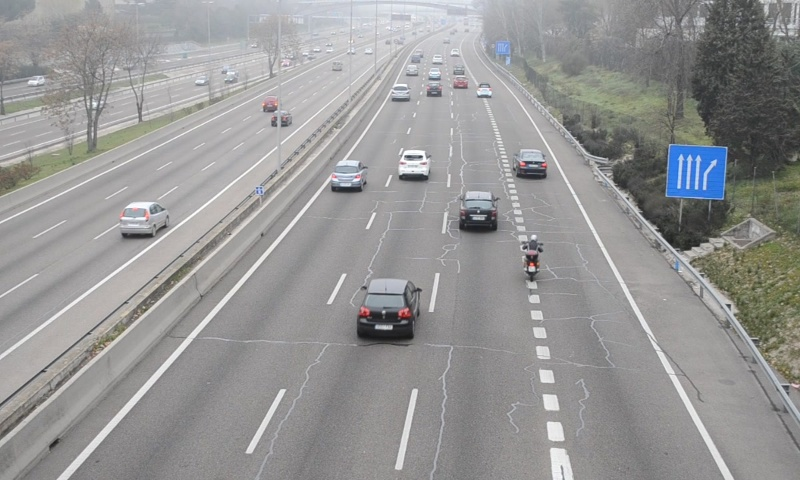car: (357, 279, 419, 337), (459, 190, 496, 230), (329, 160, 366, 190), (514, 149, 548, 178), (399, 150, 431, 178), (390, 83, 411, 103), (426, 80, 443, 97), (477, 81, 493, 99)
motorcycle: (520, 233, 545, 283)
